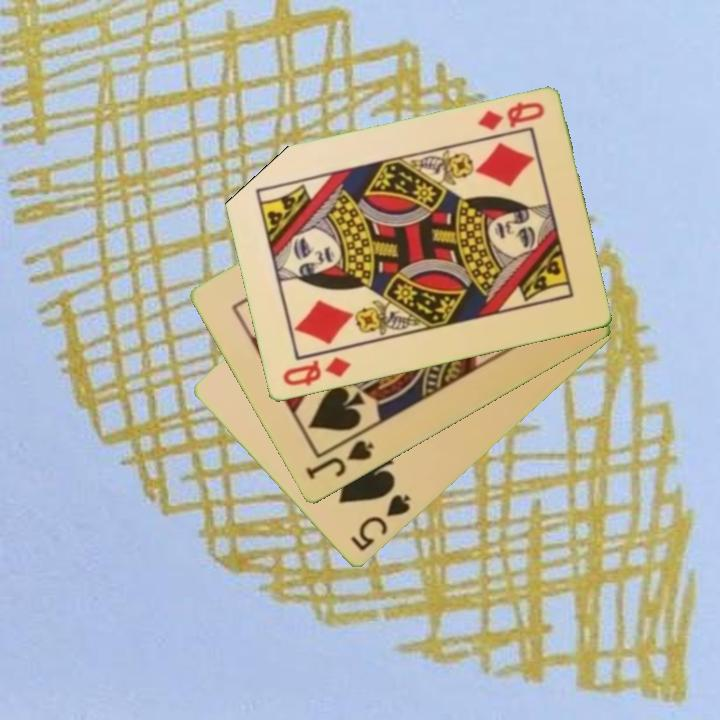5s: (346, 491, 414, 555)
Js: (302, 437, 377, 483)
Qd: (278, 354, 354, 390), (474, 99, 548, 134)
